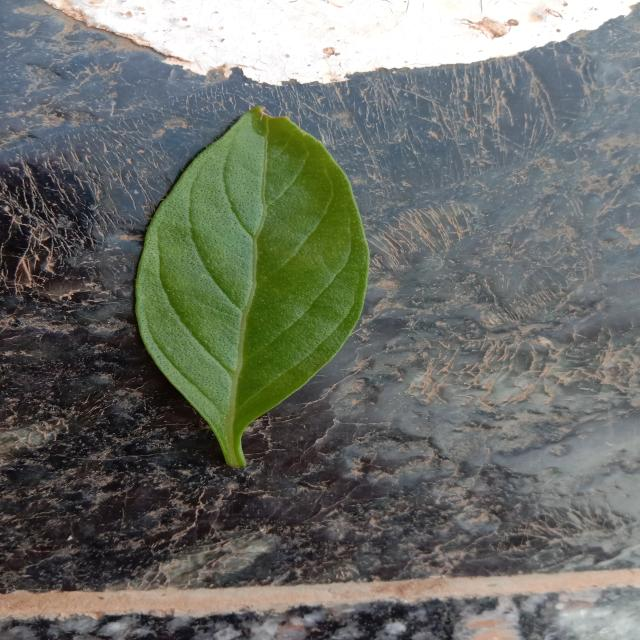kamakasturi: (135, 108, 369, 466)
